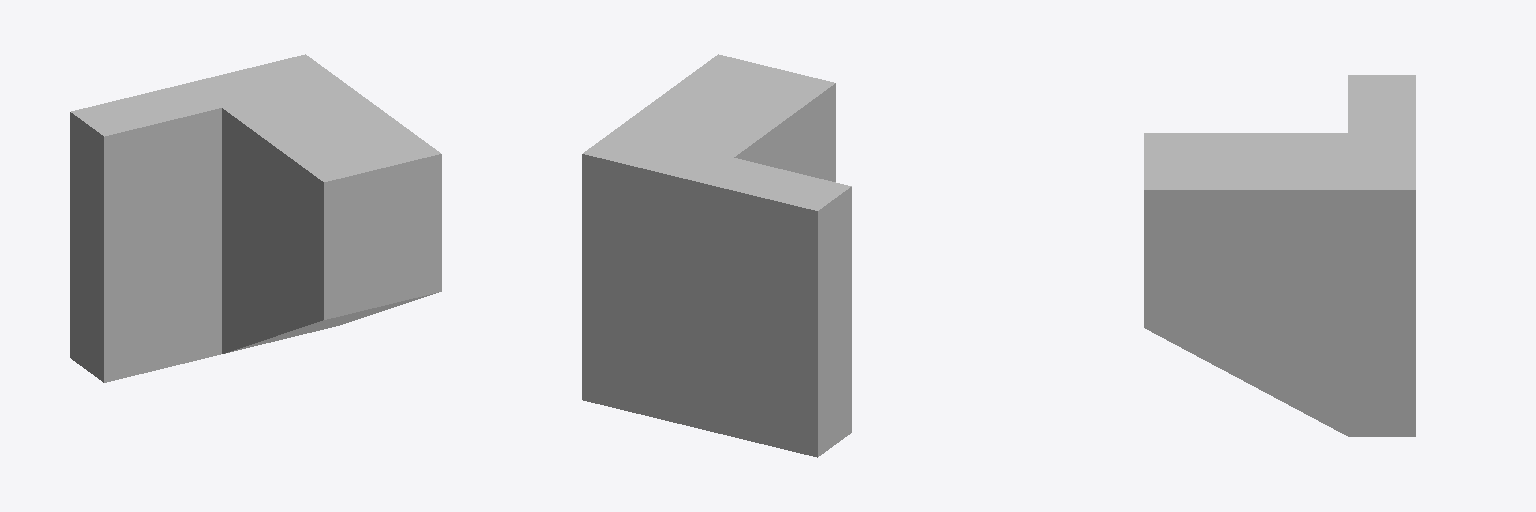
Rendered from E3-Anl01-p03.obj.
3 renders of one model, left to right at view 1: azimuth 30°, elevation 25°; view 2: azimuth 150°, elevation 25°; view 3: azimuth 270°, elevation 25°, orthographic.
Visible parts, largest first — view 1: mesh0, mesh8, mesh3, mesh7, mesh1, mesh6; view 2: mesh2, mesh3, mesh1, mesh8; view 3: mesh4, mesh3.
Part boxes in pixels (x1,y1,x2,y2): mesh0: (104,108,221,382); mesh8: (222,108,323,353); mesh3: (71,54,440,181); mesh7: (324,154,441,319); mesh1: (70,112,103,382); mesh6: (225,292,438,353); mesh2: (582,154,817,457); mesh3: (583,54,851,210); mesh1: (818,187,851,456); mesh8: (734,83,835,181); mesh4: (1144,190,1415,436); mesh3: (1144,75,1415,189).
Bounding box in the file's own units: 0.02 × 0.02 × 0.02.